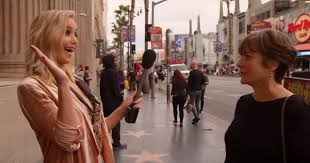no-mask: (234, 28, 298, 90), (35, 7, 83, 71)
